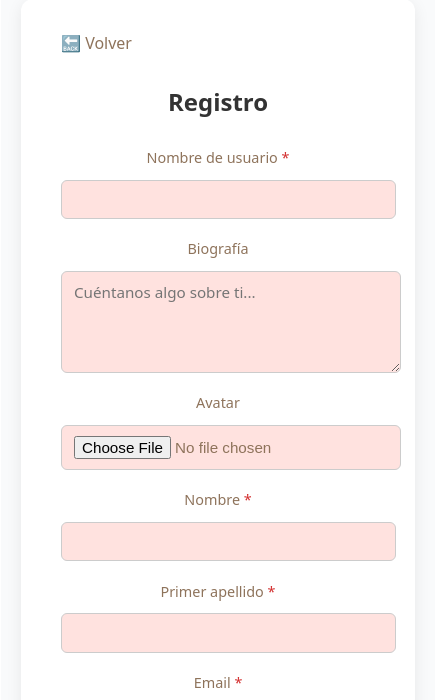
Test: RegistrationPage Component › debería mostrar error cuando falla el registro
Type "testuser" into the field named "userName" below "Nombre de usuario" at (229, 200), box [61, 180, 396, 219]
Type "Test" into the 2nd field named "name" at (229, 542), box [61, 522, 396, 561]
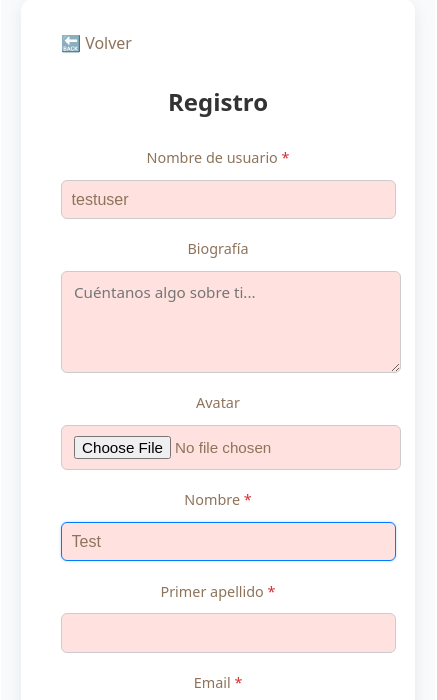
Type "User" into the field named "firstSurname" below "Primer apellido" at (229, 633), box [61, 613, 396, 653]
(page scrolled)
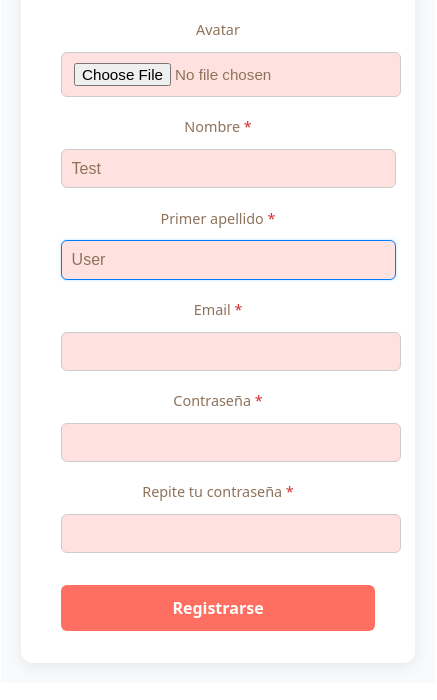
Type "test@example.com" into the field named "email" below "Email" at (231, 351), box [61, 332, 401, 371]
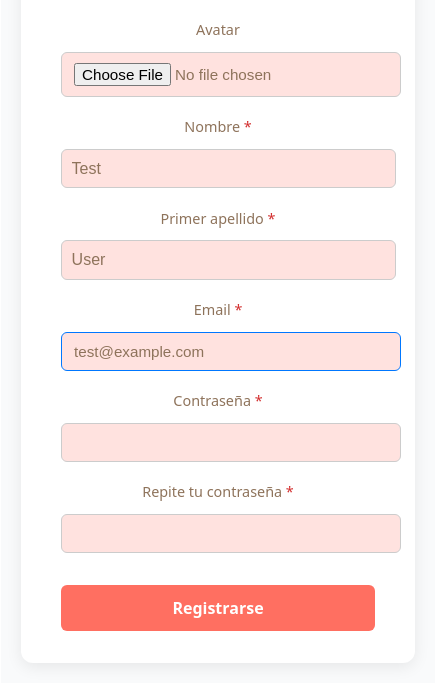
Type "Password123!" into the 1st password field at (231, 442), box [61, 422, 401, 462]
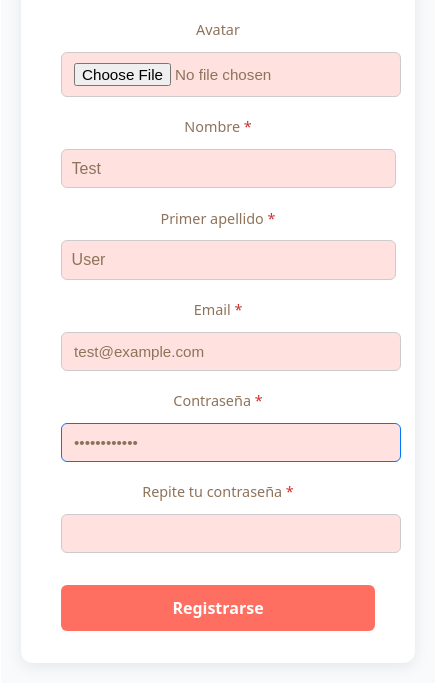
Type "Password123!" into the password field below "Repite tu contraseña" at (231, 533), box [61, 514, 401, 552]
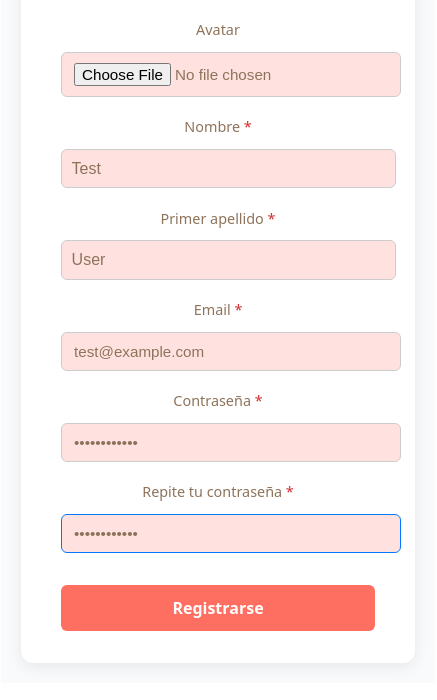
Click the button "Registrarse" at (218, 608), box [61, 584, 375, 630]
(page scrolled)
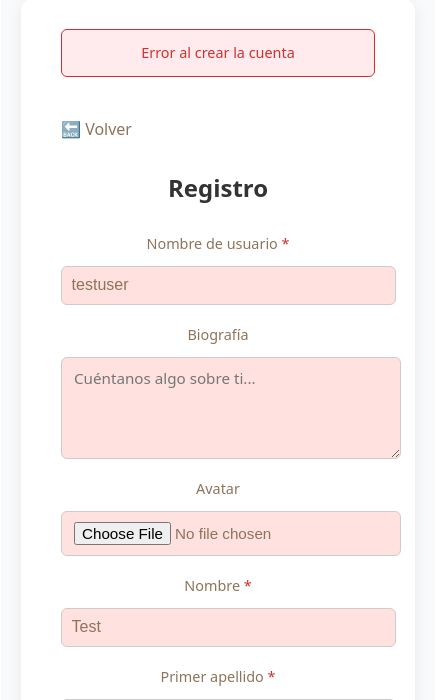
Expected: the text "Error al crear la cuenta" is shown, [61, 29, 375, 77]
